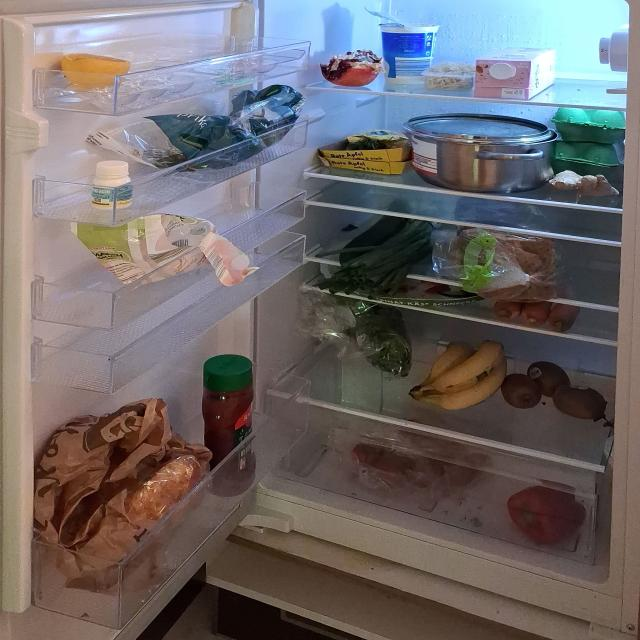Cheese: (424, 54, 474, 90)
Eggs: (555, 105, 626, 166)
Ginger: (552, 168, 618, 200)
Lemon: (62, 53, 132, 86)
Marshmallow: (76, 214, 256, 286)
Medicine: (92, 159, 134, 207)
Milk: (473, 46, 562, 99)
Paper box: (318, 126, 410, 176)
Paprika: (98, 81, 299, 169)
Pot: (410, 111, 554, 190)
Spring onion: (325, 196, 435, 290)
Vegetable: (348, 420, 491, 494), (302, 296, 408, 380)
Yogurt: (374, 24, 436, 90)
banaa: (409, 332, 505, 410)
bell pepper: (501, 481, 588, 547)
bread: (40, 407, 207, 565), (453, 202, 560, 303)
ketchup: (202, 348, 260, 503)
kiwi: (506, 358, 610, 423)
pomogranate: (316, 48, 388, 86)
